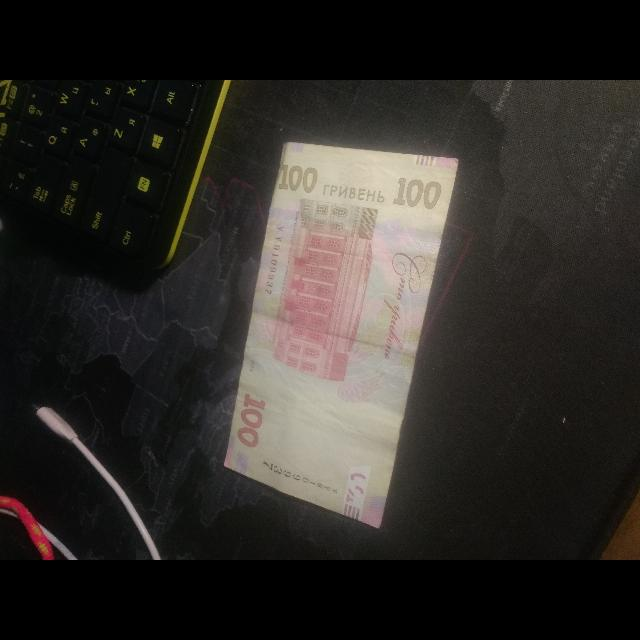100uah: (224, 139, 459, 528)
